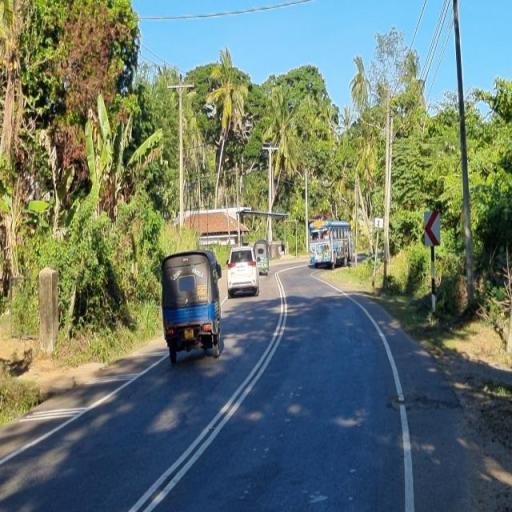double_white_line: (130, 270, 291, 512)
